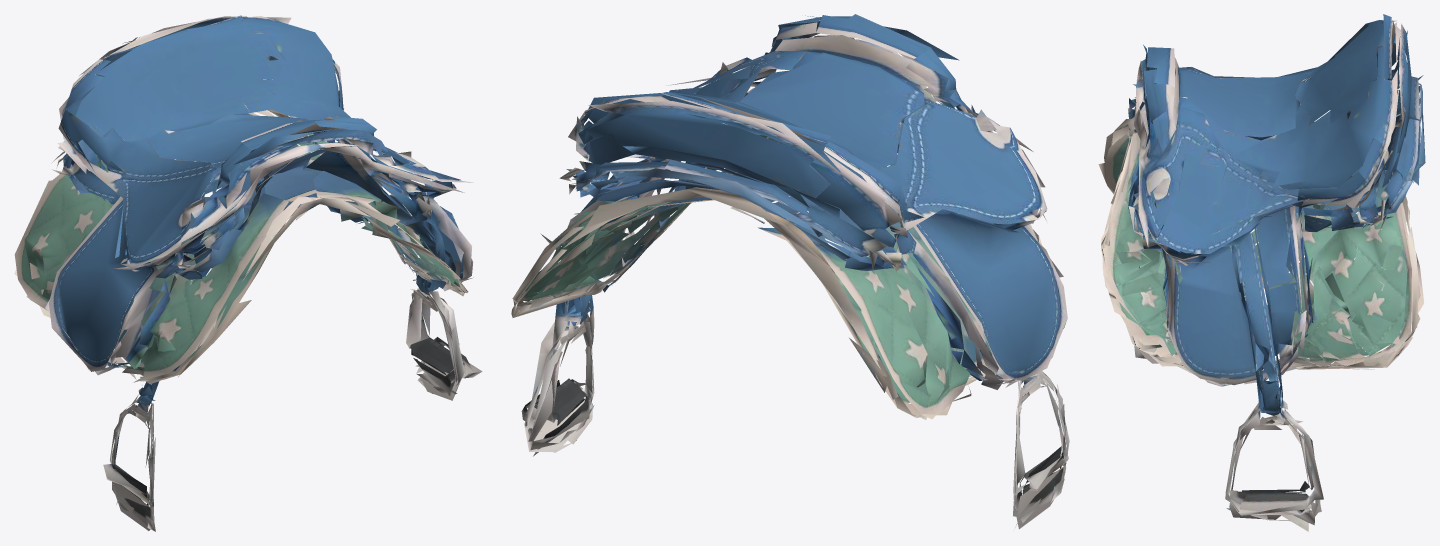
The picture shows the model from 3 angles, left to right: view 1: azimuth 30°, elevation 25°; view 2: azimuth 150°, elevation 25°; view 3: azimuth 270°, elevation 25°; orthographic projection. The views are drawn at different scales.
Parts seen in each view (by area): view 1: saddle-blue; view 2: saddle-blue; view 3: saddle-blue.
Boxes of the visible parts, x1,y1,x2,y2 form: saddle-blue: [14, 15, 482, 531]; saddle-blue: [511, 14, 1069, 529]; saddle-blue: [1098, 14, 1425, 531].
Bounding box in the file's own units: 0.3388 × 0.3047 × 0.2288.
Materials: 1 (1 with a texture image).
